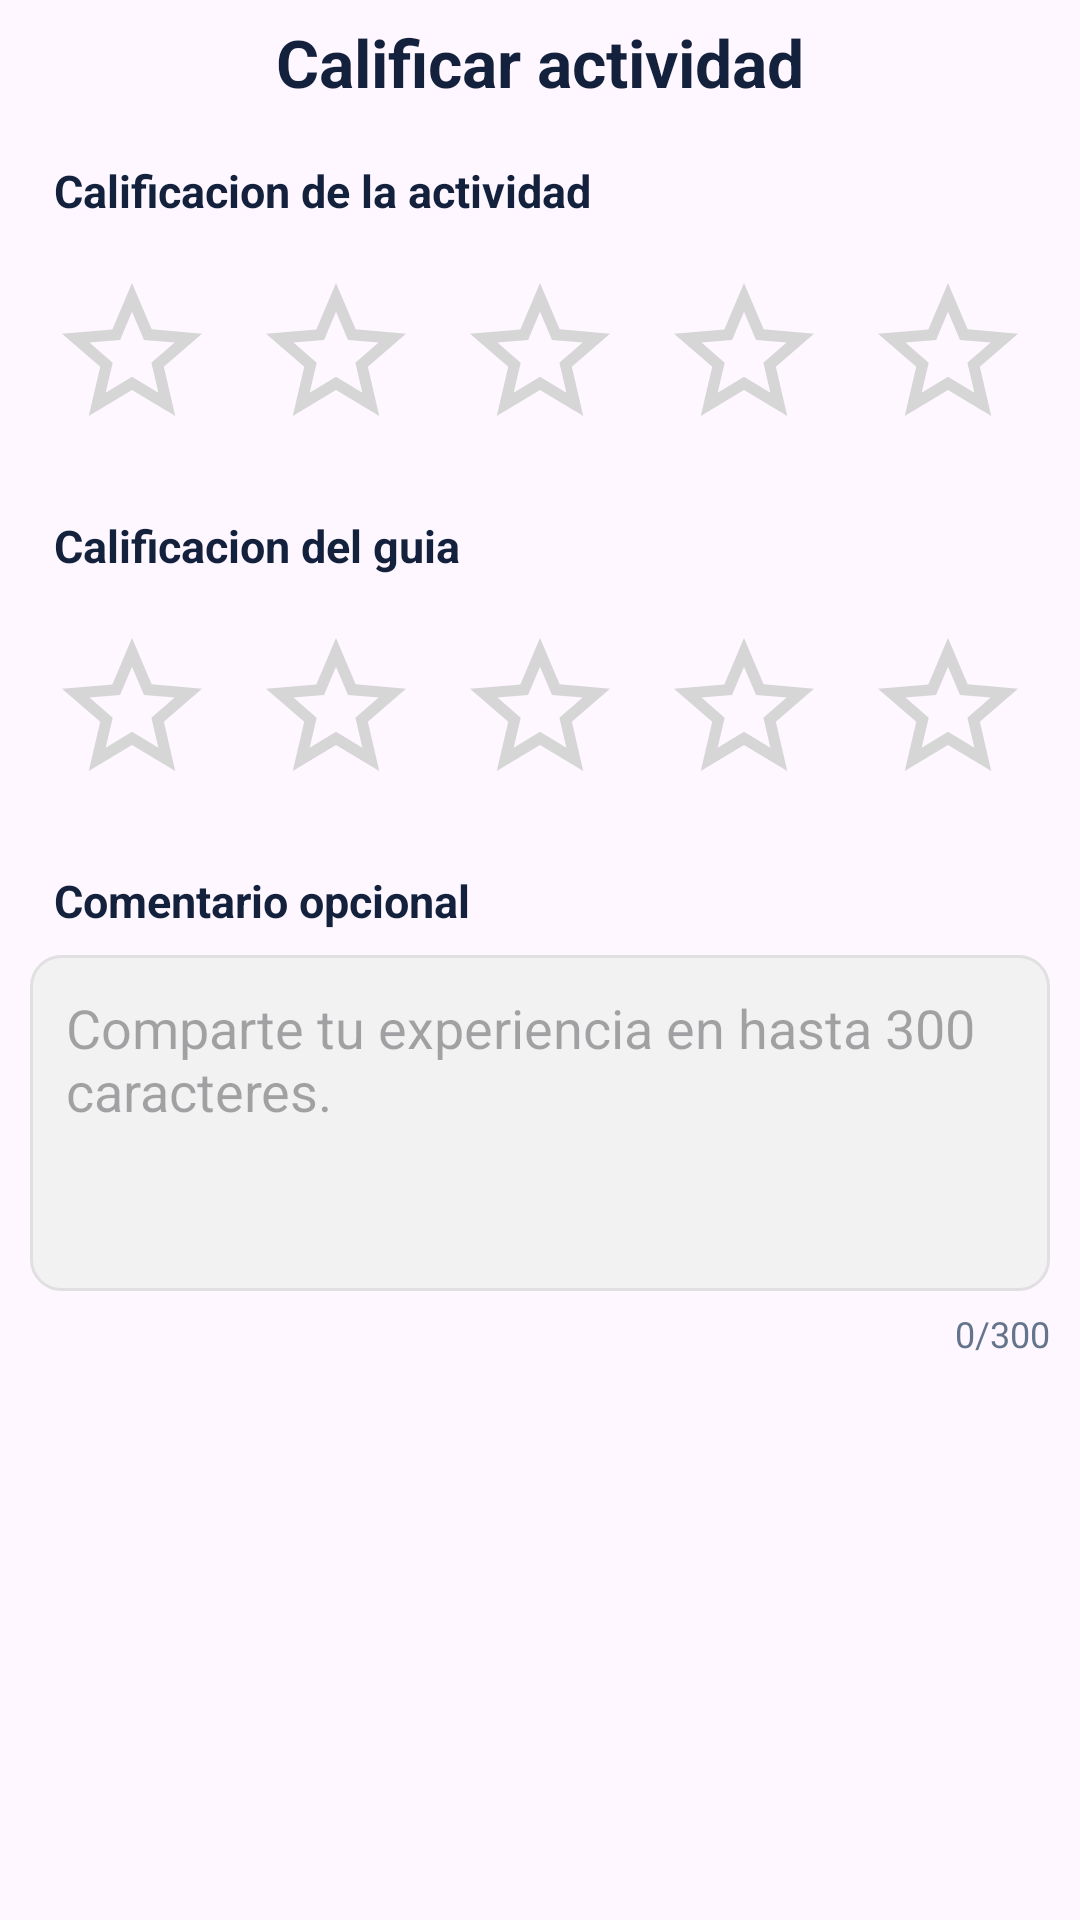

Icon click points for this 1080*1920 phone screenshot, format point (x, y):
1 estrella: point (132, 349), point (132, 704)
2 estrellas: point (336, 349), point (336, 704)
3 estrellas: point (540, 349), point (540, 704)
4 estrellas: point (744, 349), point (744, 704)
5 estrellas: point (948, 349), point (948, 704)
